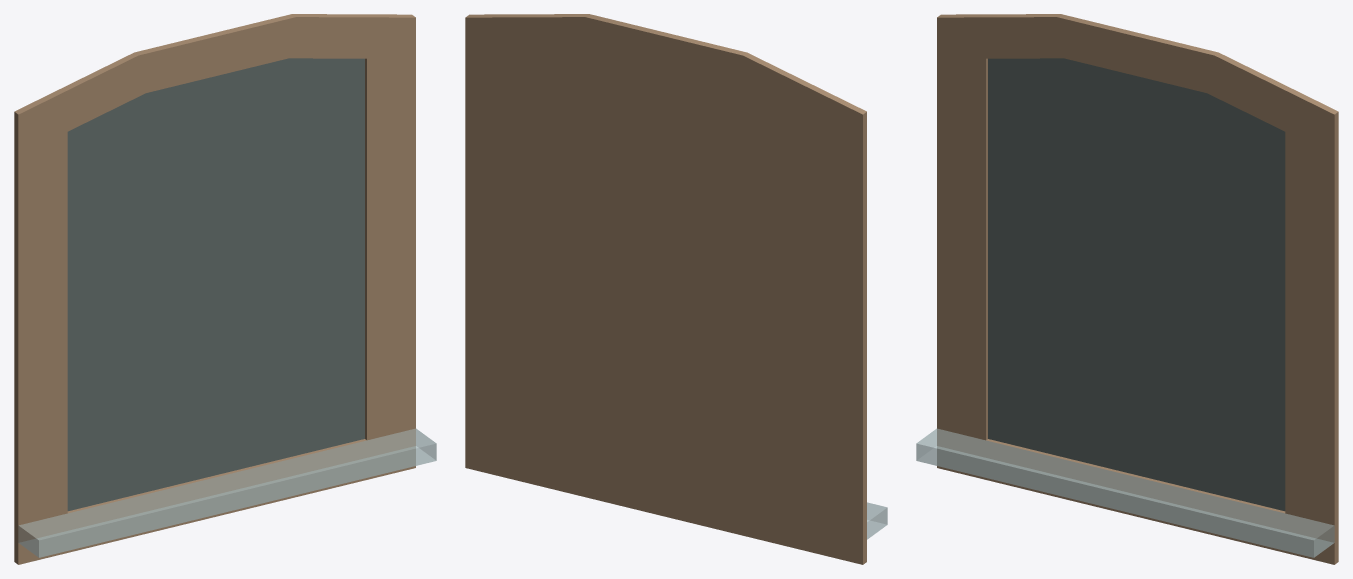
File: mirror.glb
3 views of the same model, side by side, from view 1: azimuth 30°, elevation 25°; view 2: azimuth 150°, elevation 25°; view 3: azimuth 330°, elevation 25° (orthographic).
Visible parts, largest first — view 1: bathroomMirror(Clone); view 2: bathroomMirror(Clone); view 3: bathroomMirror(Clone).
Part boxes in pixels (box(x1,y1,x2,y2)): bathroomMirror(Clone): box(14, 14, 436, 564); bathroomMirror(Clone): box(465, 14, 887, 564); bathroomMirror(Clone): box(916, 14, 1338, 564).
Size of the model in its own units: 0.65 by 0.75 by 0.07.
